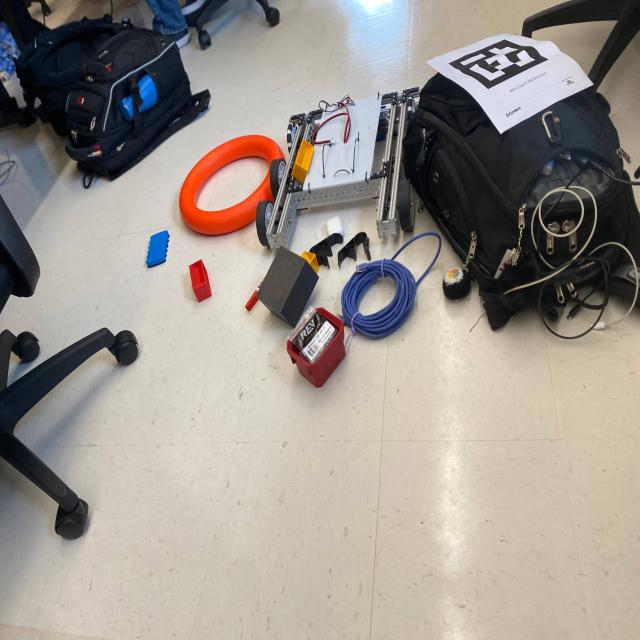red-specimen: (189, 259, 212, 302)
yellow-specimen: (291, 139, 314, 183), (300, 251, 319, 273)
